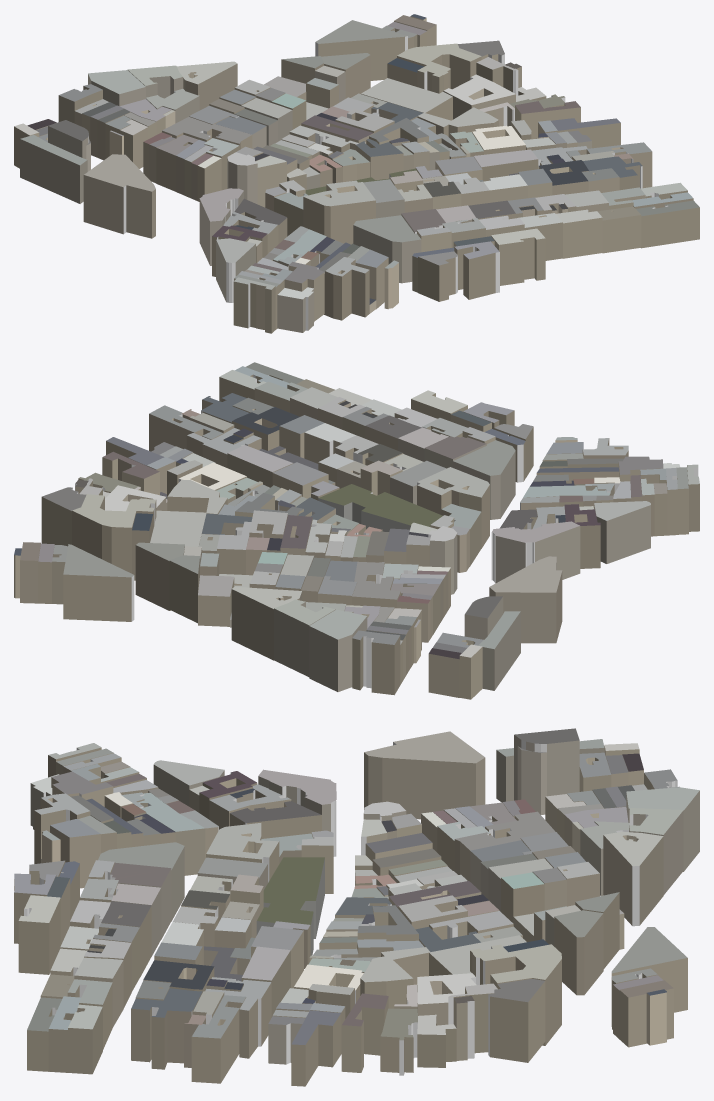
The picture shows the model from 3 angles, top to bottom: view 1: azimuth 30°, elevation 25°; view 2: azimuth 150°, elevation 25°; view 3: azimuth 270°, elevation 25°; orthographic projection. The views are drawn at different scales.
Parts seen in each view (by area): view 1: tuile; view 2: tuile; view 3: tuile.
Boxes of the visible parts, x1,y1,x2,y2 form: tuile: (14, 14, 699, 333); tuile: (14, 362, 699, 699); tuile: (14, 728, 699, 1086).
Size of the model in its own units: 275 by 34.59 by 271.
